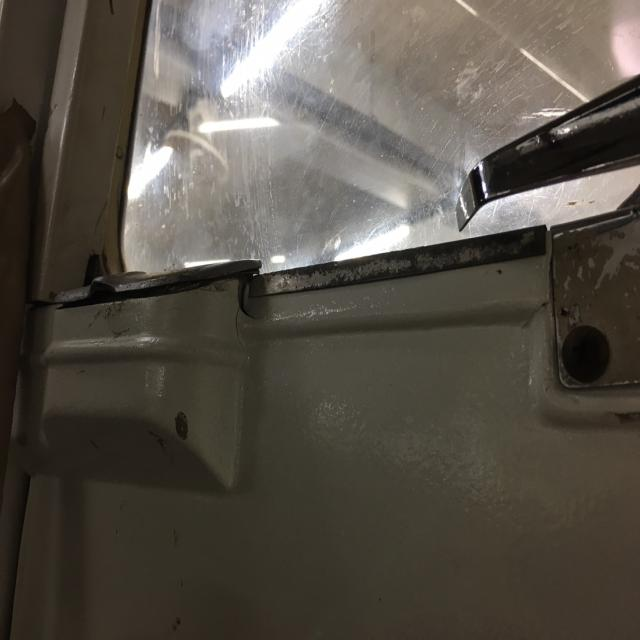Rupture: (222, 277, 273, 370)
